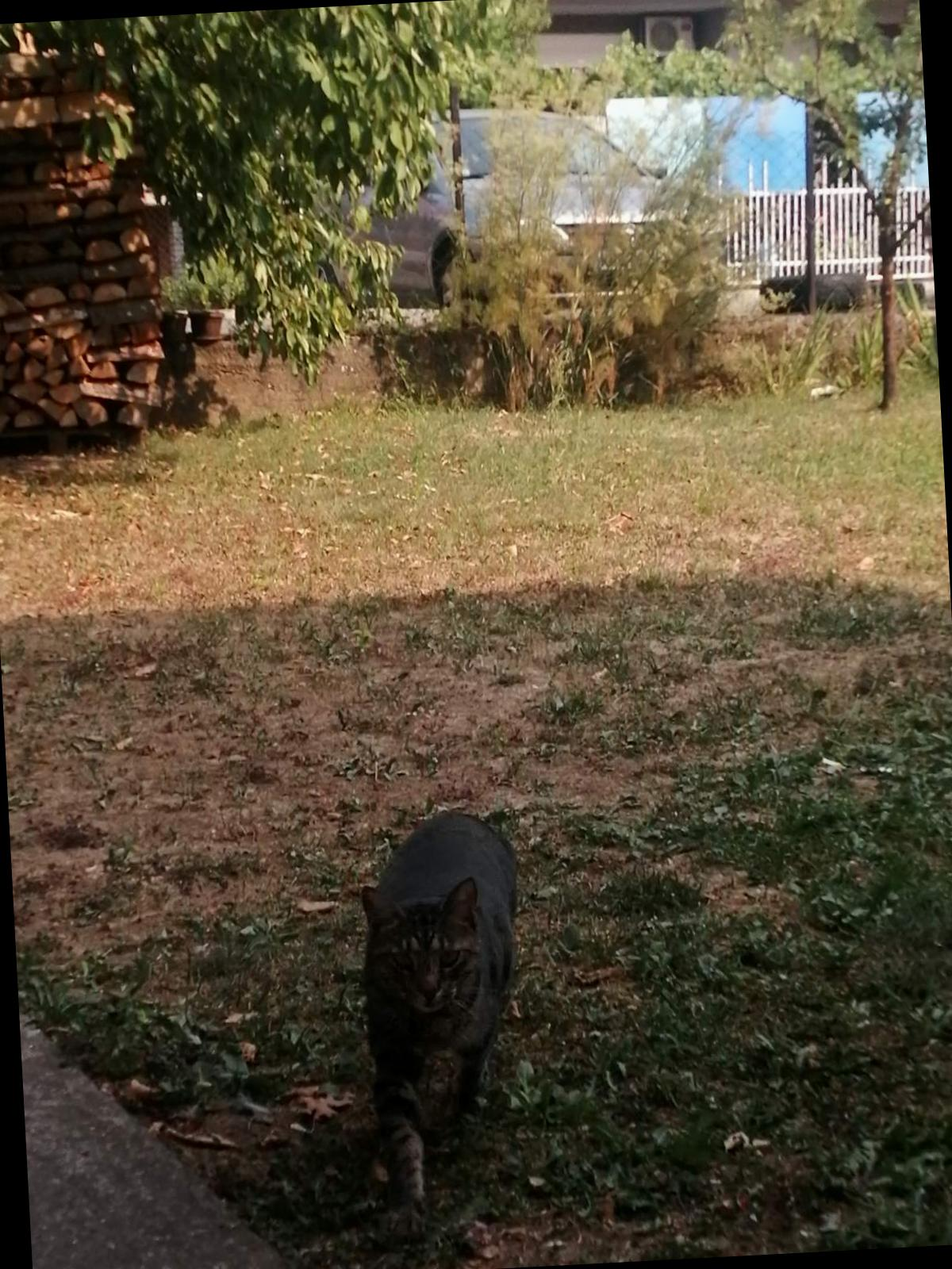macka: (350, 805, 535, 1210)
